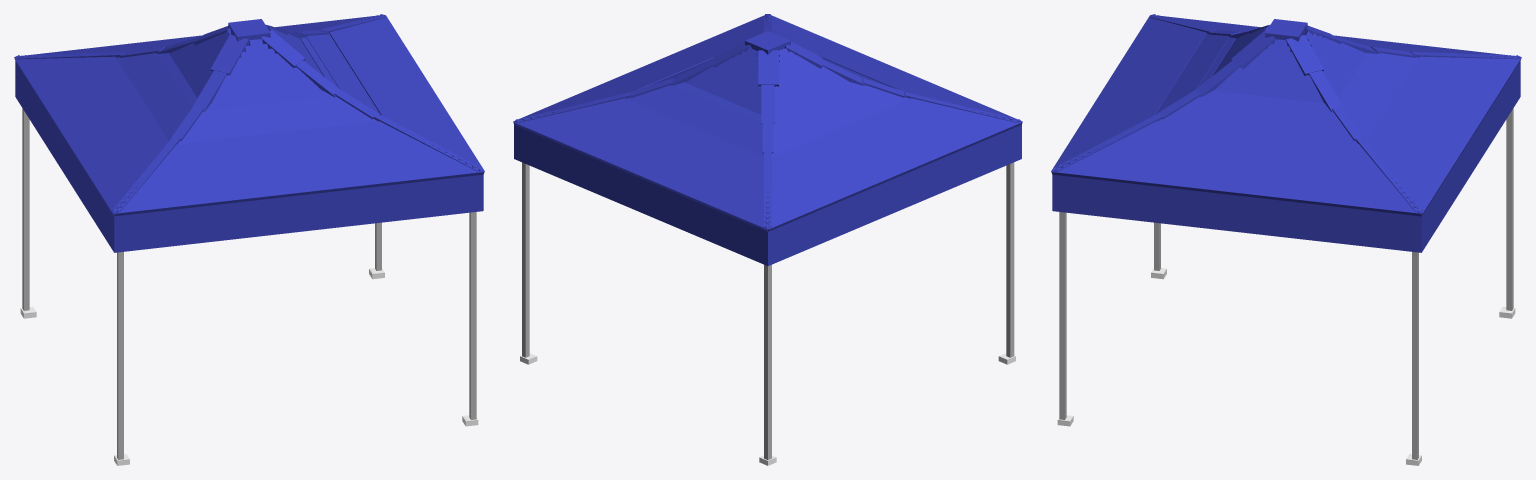
The model's file is tent_blue_y75.obj.
The picture shows the model from 3 angles, left to right: view 1: azimuth 30°, elevation 25°; view 2: azimuth 150°, elevation 25°; view 3: azimuth 270°, elevation 25°; orthographic projection. The views are drawn at different scales.
Parts seen in each view (by area): view 1: text2, text1, cube1.005, cube2.005, stem3, cube3.005, cube4.005, stem2, cube5.001, cube6.001, stem1, cube7.001 (+61 smaller); view 2: text0, text1, cube1.003, cube1.006, stem1, stem2, stem4, cube2.003, cube2.006, cube3.003, cube3.006, cube4.003 (+44 smaller); view 3: text3, text0, cube1.004, cube2.004, stem3, cube3.004, cube4.004, stem2, cube5.000, cube6.000, stem4, cube7.000 (+61 smaller).
Boxes of the visible parts, x1,y1,x2,y2 form: text2: (112,174,483,252); text1: (16,63,112,249); cube1.005: (113,168,483,216); cube2.005: (117,164,476,208); stem3: (469,212,476,419); cube3.005: (121,161,469,204); cube4.005: (125,158,462,199); stem2: (22,108,29,310); cube5.001: (130,154,455,194); cube6.001: (134,151,448,189); stem1: (117,252,123,459); cube7.001: (138,147,440,185); text0: (514,125,771,265); text1: (772,126,1017,264); cube1.003: (764,119,1022,233); cube1.006: (513,119,771,233); stem1: (1006,162,1014,357); stem2: (764,264,771,459); stem4: (522,162,529,357); cube2.003: (765,117,1014,224); cube2.006: (521,117,770,224); cube3.003: (765,116,1007,219); cube3.006: (528,116,770,219); cube4.003: (766,114,999,214); text3: (1058,175,1415,252); text0: (1416,62,1520,252); cube1.004: (1052,168,1422,216); cube2.004: (1059,164,1418,208); stem3: (1059,212,1066,419); cube3.004: (1066,161,1414,204); cube4.004: (1073,158,1410,199); stem2: (1506,108,1513,310); cube5.000: (1080,154,1405,194); cube6.000: (1087,151,1401,189); stem4: (1412,252,1418,459); cube7.000: (1095,147,1397,185).
Size of the model in its own units: 4.57 by 3.66 by 4.57.
